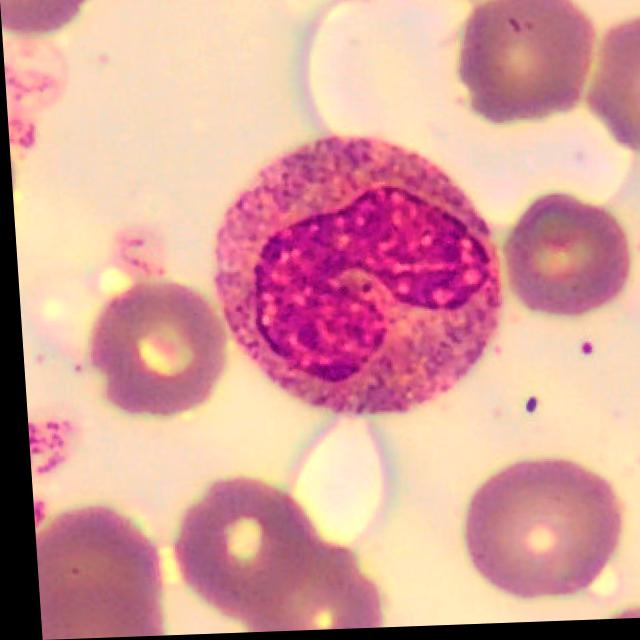Bastonete: (209, 137, 497, 418)
